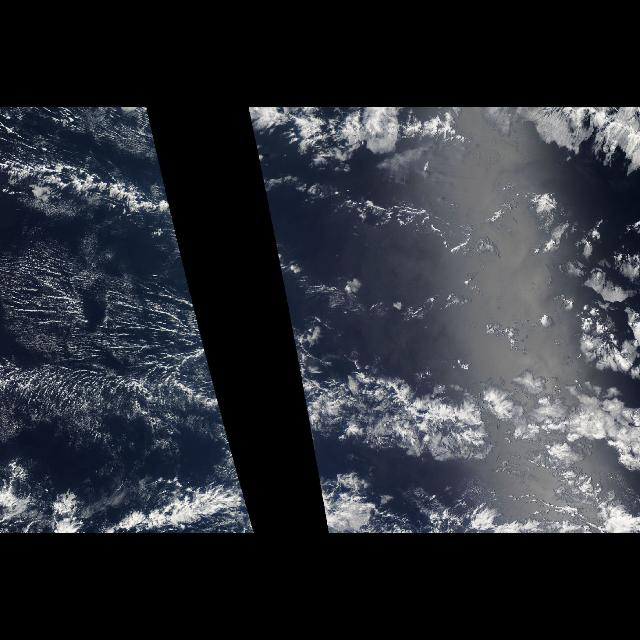Flower: (493, 146, 639, 496)
Sugar: (11, 248, 229, 440)
